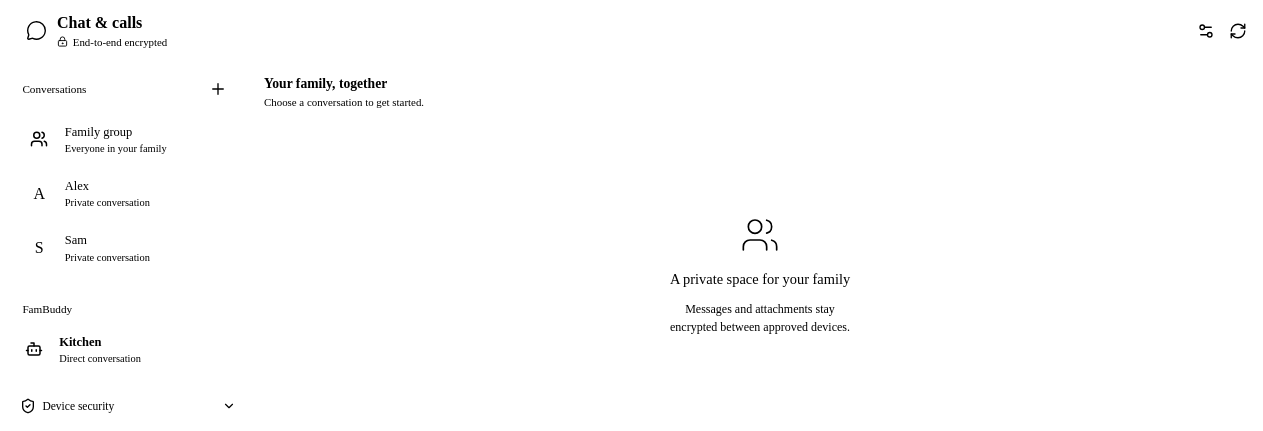
it: opens a paired FamBuddy conversation from the sidebar
This screenshot has width=1263, height=431.
Click the button "Kitchen Direct conversation" at coordinates (128, 350), box x1=8 y1=324 x2=248 y2=375
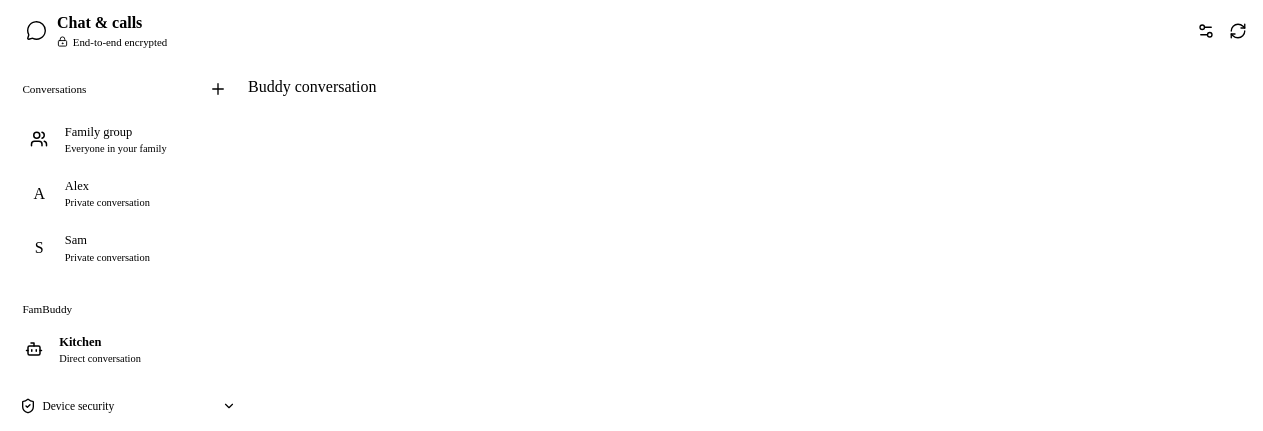
expect the text "Buddy conversation" is shown: met, box x1=248 y1=78 x2=376 y2=95
